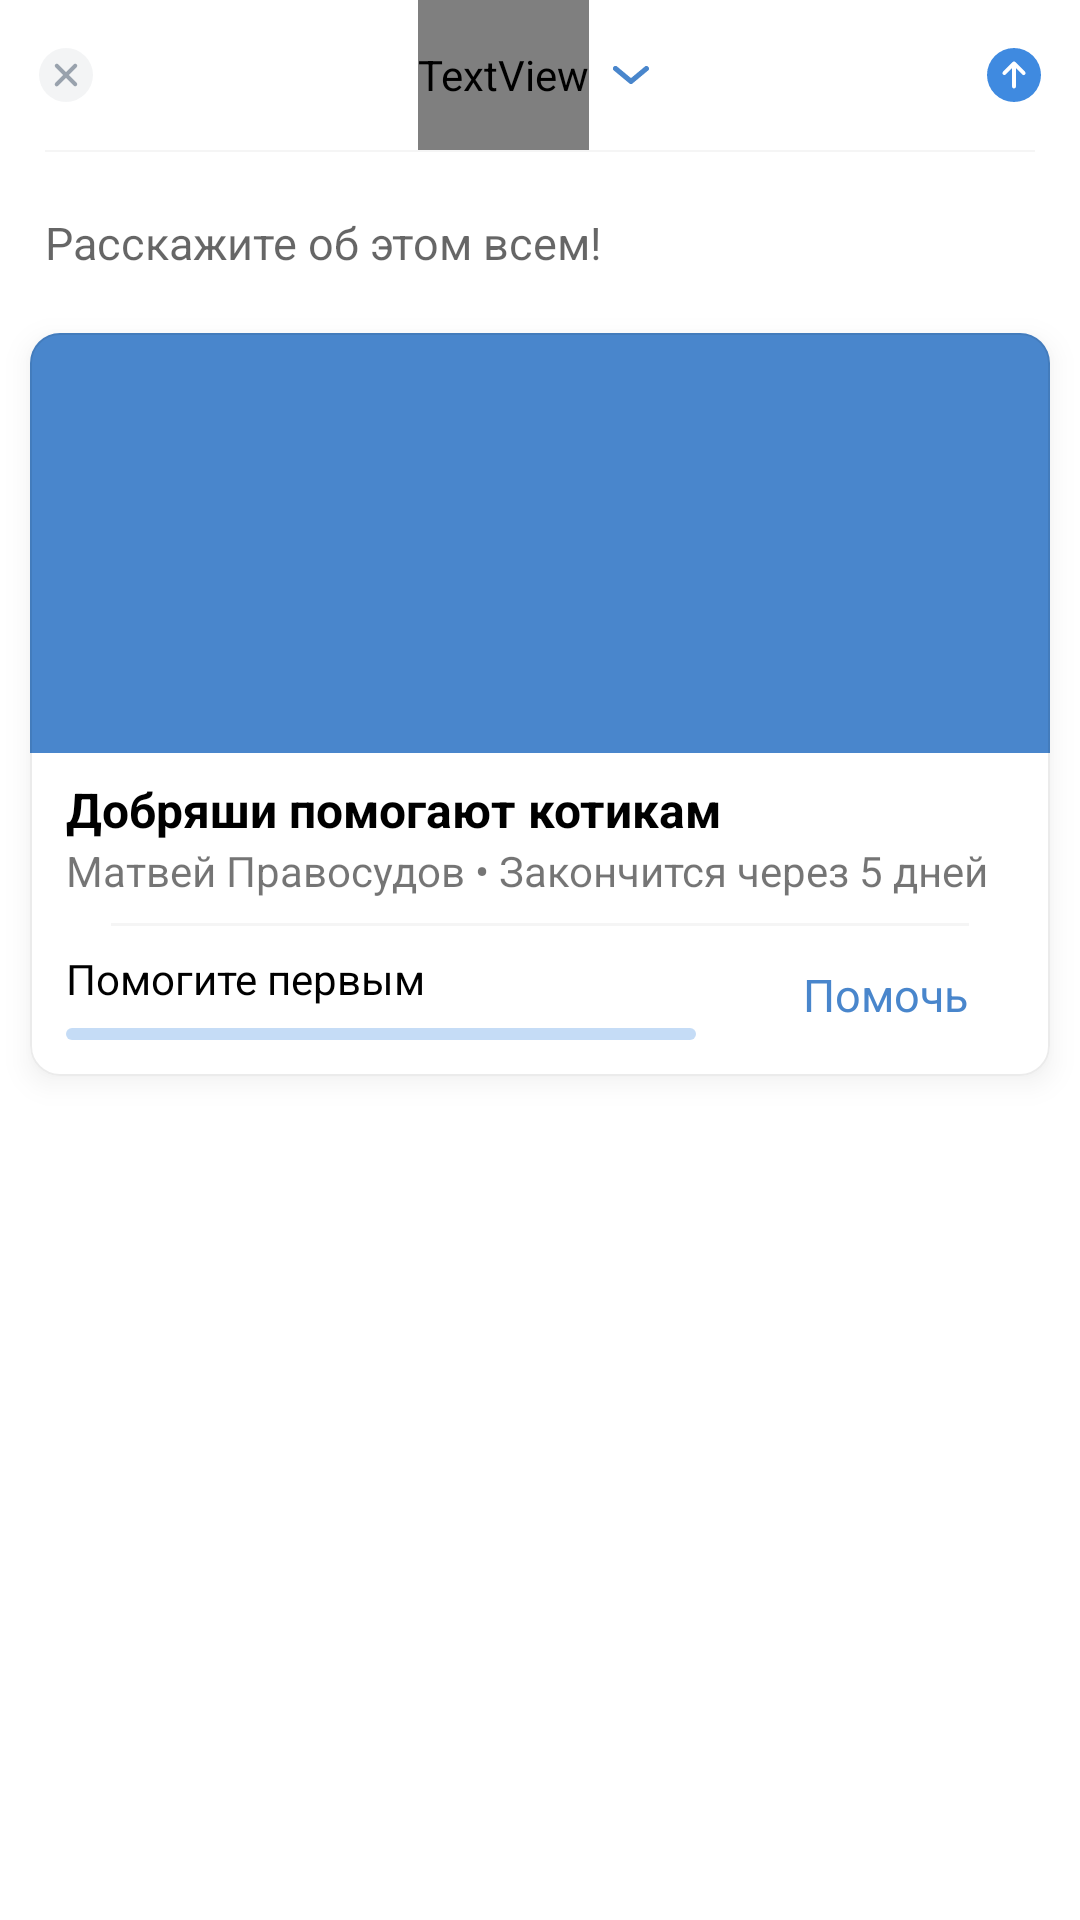

Point at icon controls on the screen. Image size 1080px×1920px, points as (x=x, y=y).
arrow bottom: (x=631, y=75)
close: (x=66, y=75)
